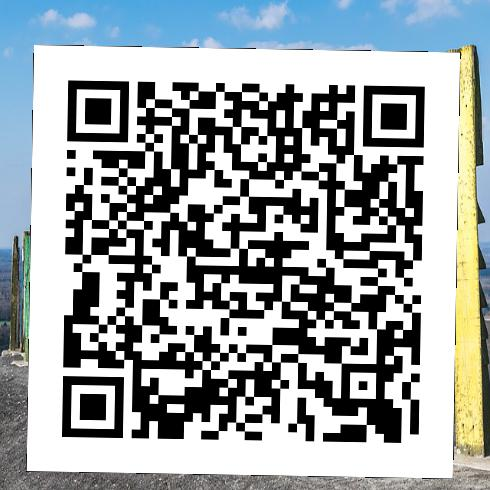qr_code: (26, 44, 460, 478)
